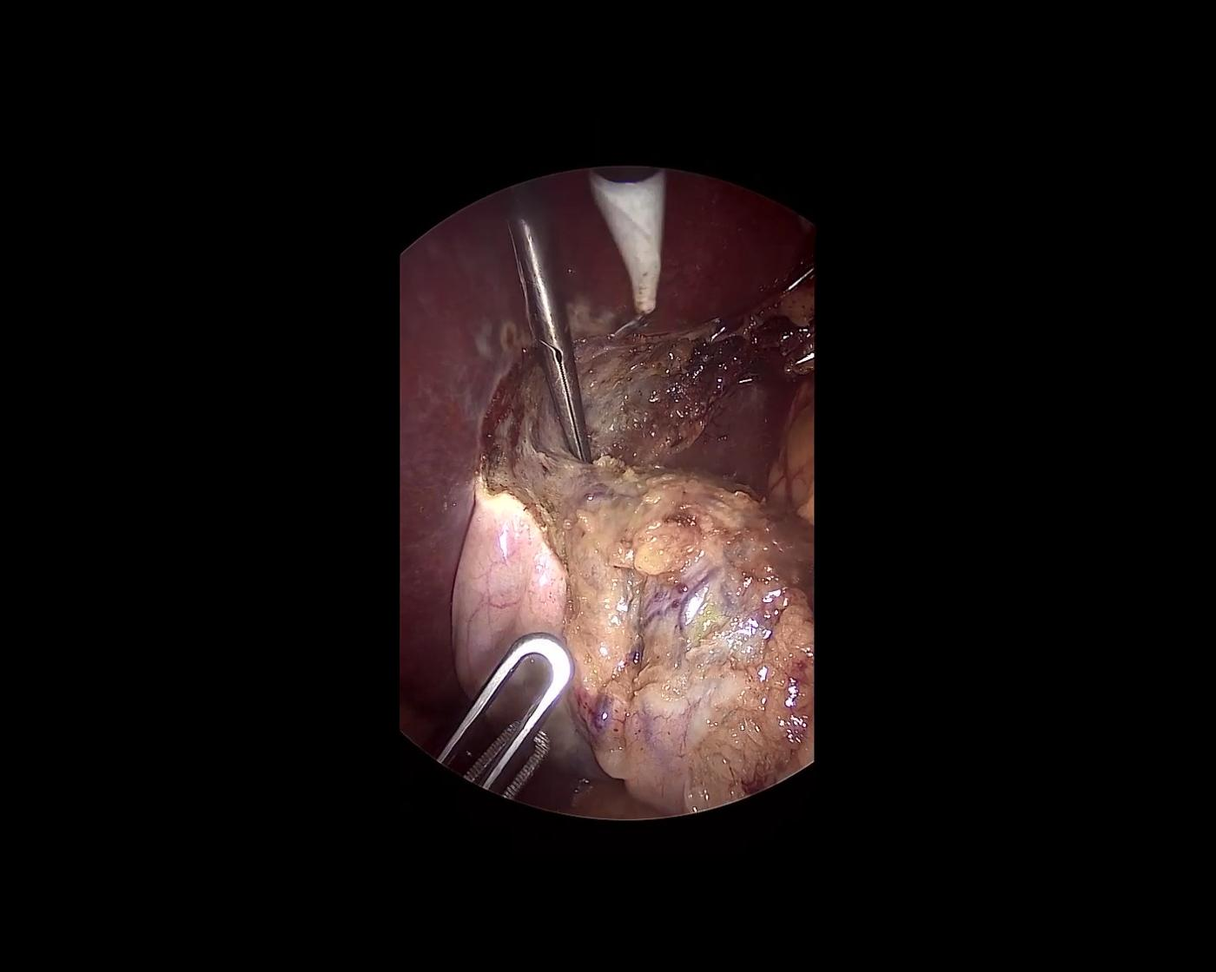Cautery: (589, 167, 666, 338)
Forceps: (429, 615, 610, 810), (497, 176, 593, 471)
Gallbladder: (454, 463, 817, 820)
Liver: (184, 46, 816, 773), (660, 351, 794, 494)
